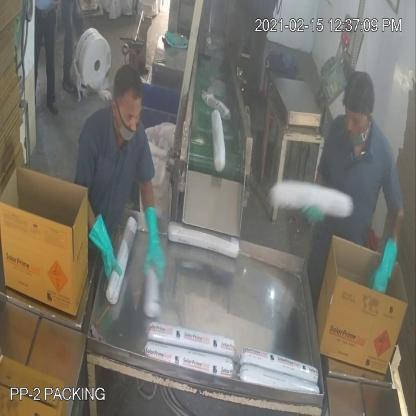glove: (130, 197, 175, 294), (82, 205, 124, 282), (365, 235, 401, 294)
